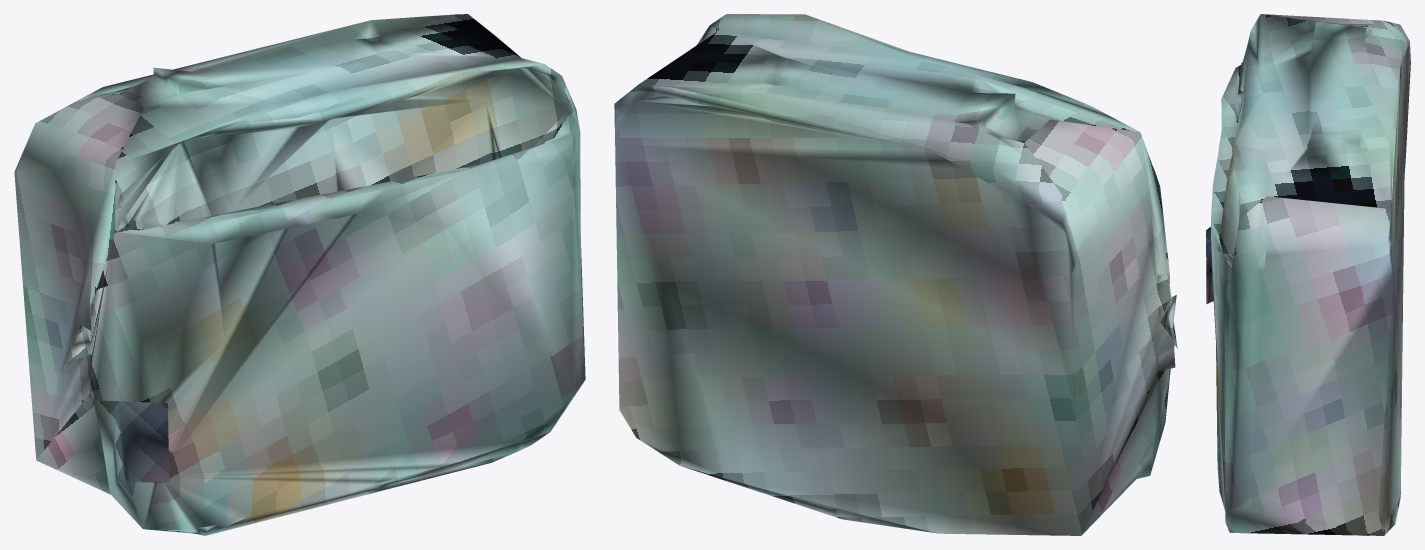
The model's file is Olive_Kids_Birdie_Lunch_Box-low.glb.
3 renders of one model, left to right at view 1: azimuth 30°, elevation 25°; view 2: azimuth 150°, elevation 25°; view 3: azimuth 270°, elevation 25°, orthographic. The views are drawn at different scales.
Visible parts, largest first — view 1: Olive_Kids_Birdie_Lunch_Box; view 2: Olive_Kids_Birdie_Lunch_Box; view 3: Olive_Kids_Birdie_Lunch_Box.
Boxes of the visible parts, left/top/right/bottom form: Olive_Kids_Birdie_Lunch_Box: left=14, top=14, right=585, bottom=535; Olive_Kids_Birdie_Lunch_Box: left=614, top=14, right=1177, bottom=535; Olive_Kids_Birdie_Lunch_Box: left=1206, top=14, right=1410, bottom=535.
Size of the model in its own units: 0.2595 by 0.2079 by 0.0994.
1 material, 1 textured.
